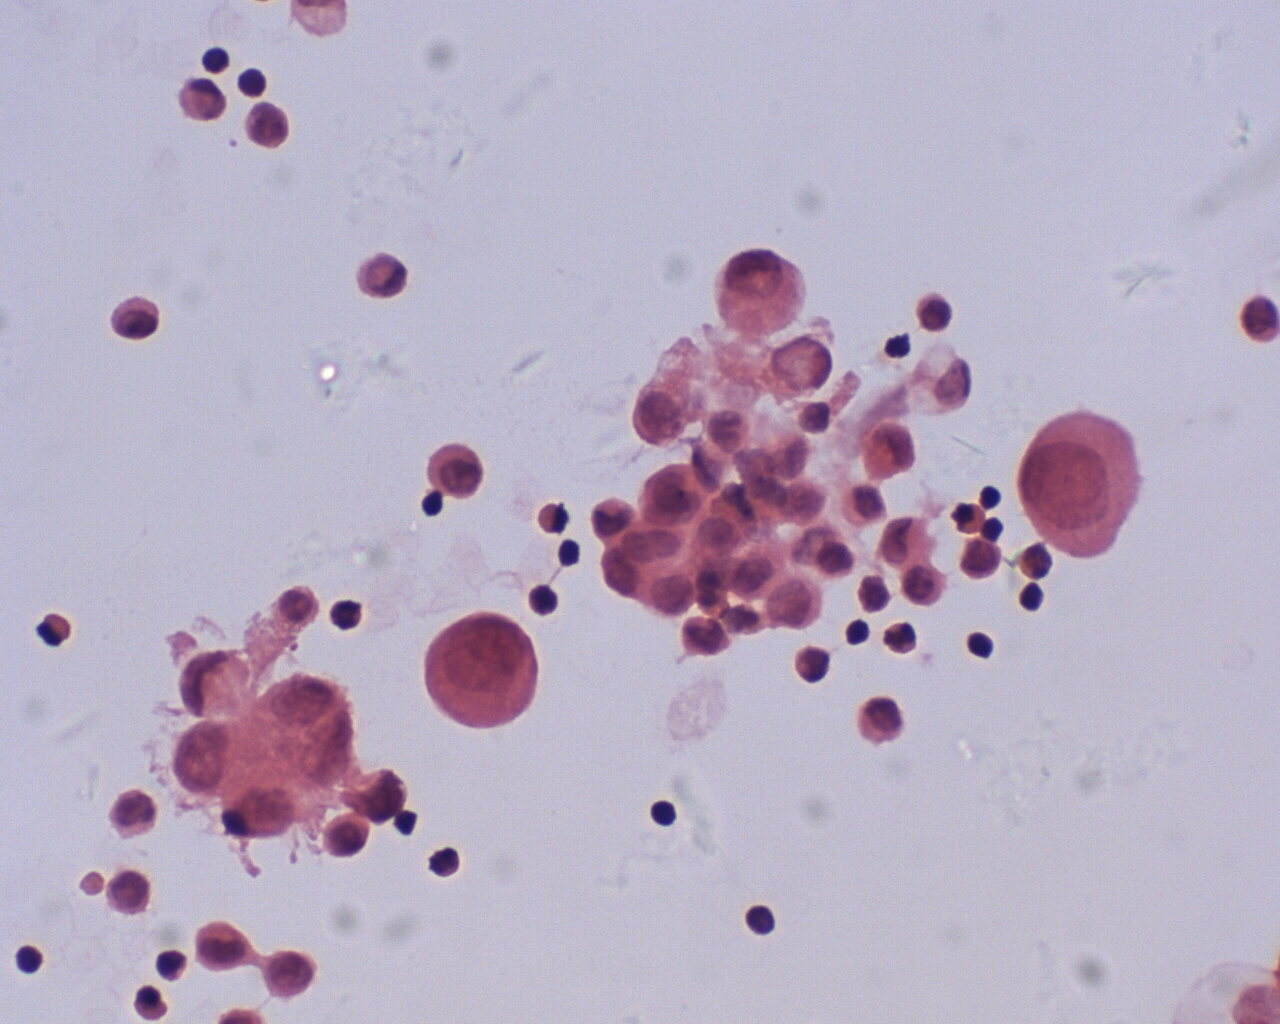ab: (1014, 404, 1145, 561), (422, 610, 540, 729), (173, 718, 256, 793), (762, 572, 829, 633), (426, 441, 490, 502)
lymph: (738, 900, 781, 939), (235, 62, 273, 100), (647, 796, 680, 830), (967, 631, 996, 664), (847, 616, 870, 644)
